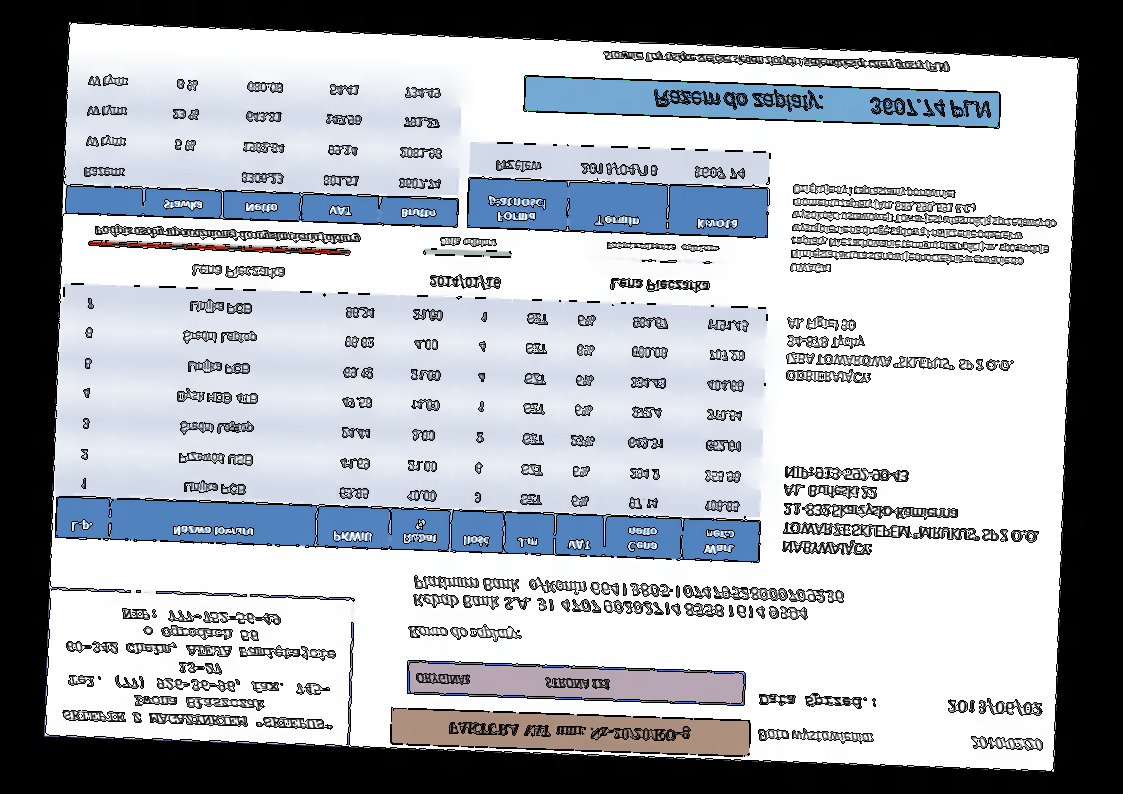Table: (53, 282, 770, 564), (63, 61, 463, 229), (466, 141, 772, 239)
TextBox: (60, 604, 340, 736), (787, 180, 1057, 284), (779, 461, 1044, 564), (411, 573, 847, 625), (783, 314, 1016, 392), (649, 86, 994, 121), (602, 47, 949, 76), (446, 716, 693, 746), (92, 221, 363, 248), (413, 669, 613, 693), (406, 620, 523, 645), (758, 689, 878, 712), (756, 727, 874, 747), (607, 275, 710, 297), (945, 698, 1043, 718), (605, 240, 720, 257), (190, 262, 286, 282), (968, 735, 1044, 753), (427, 273, 503, 291), (438, 234, 498, 251)
